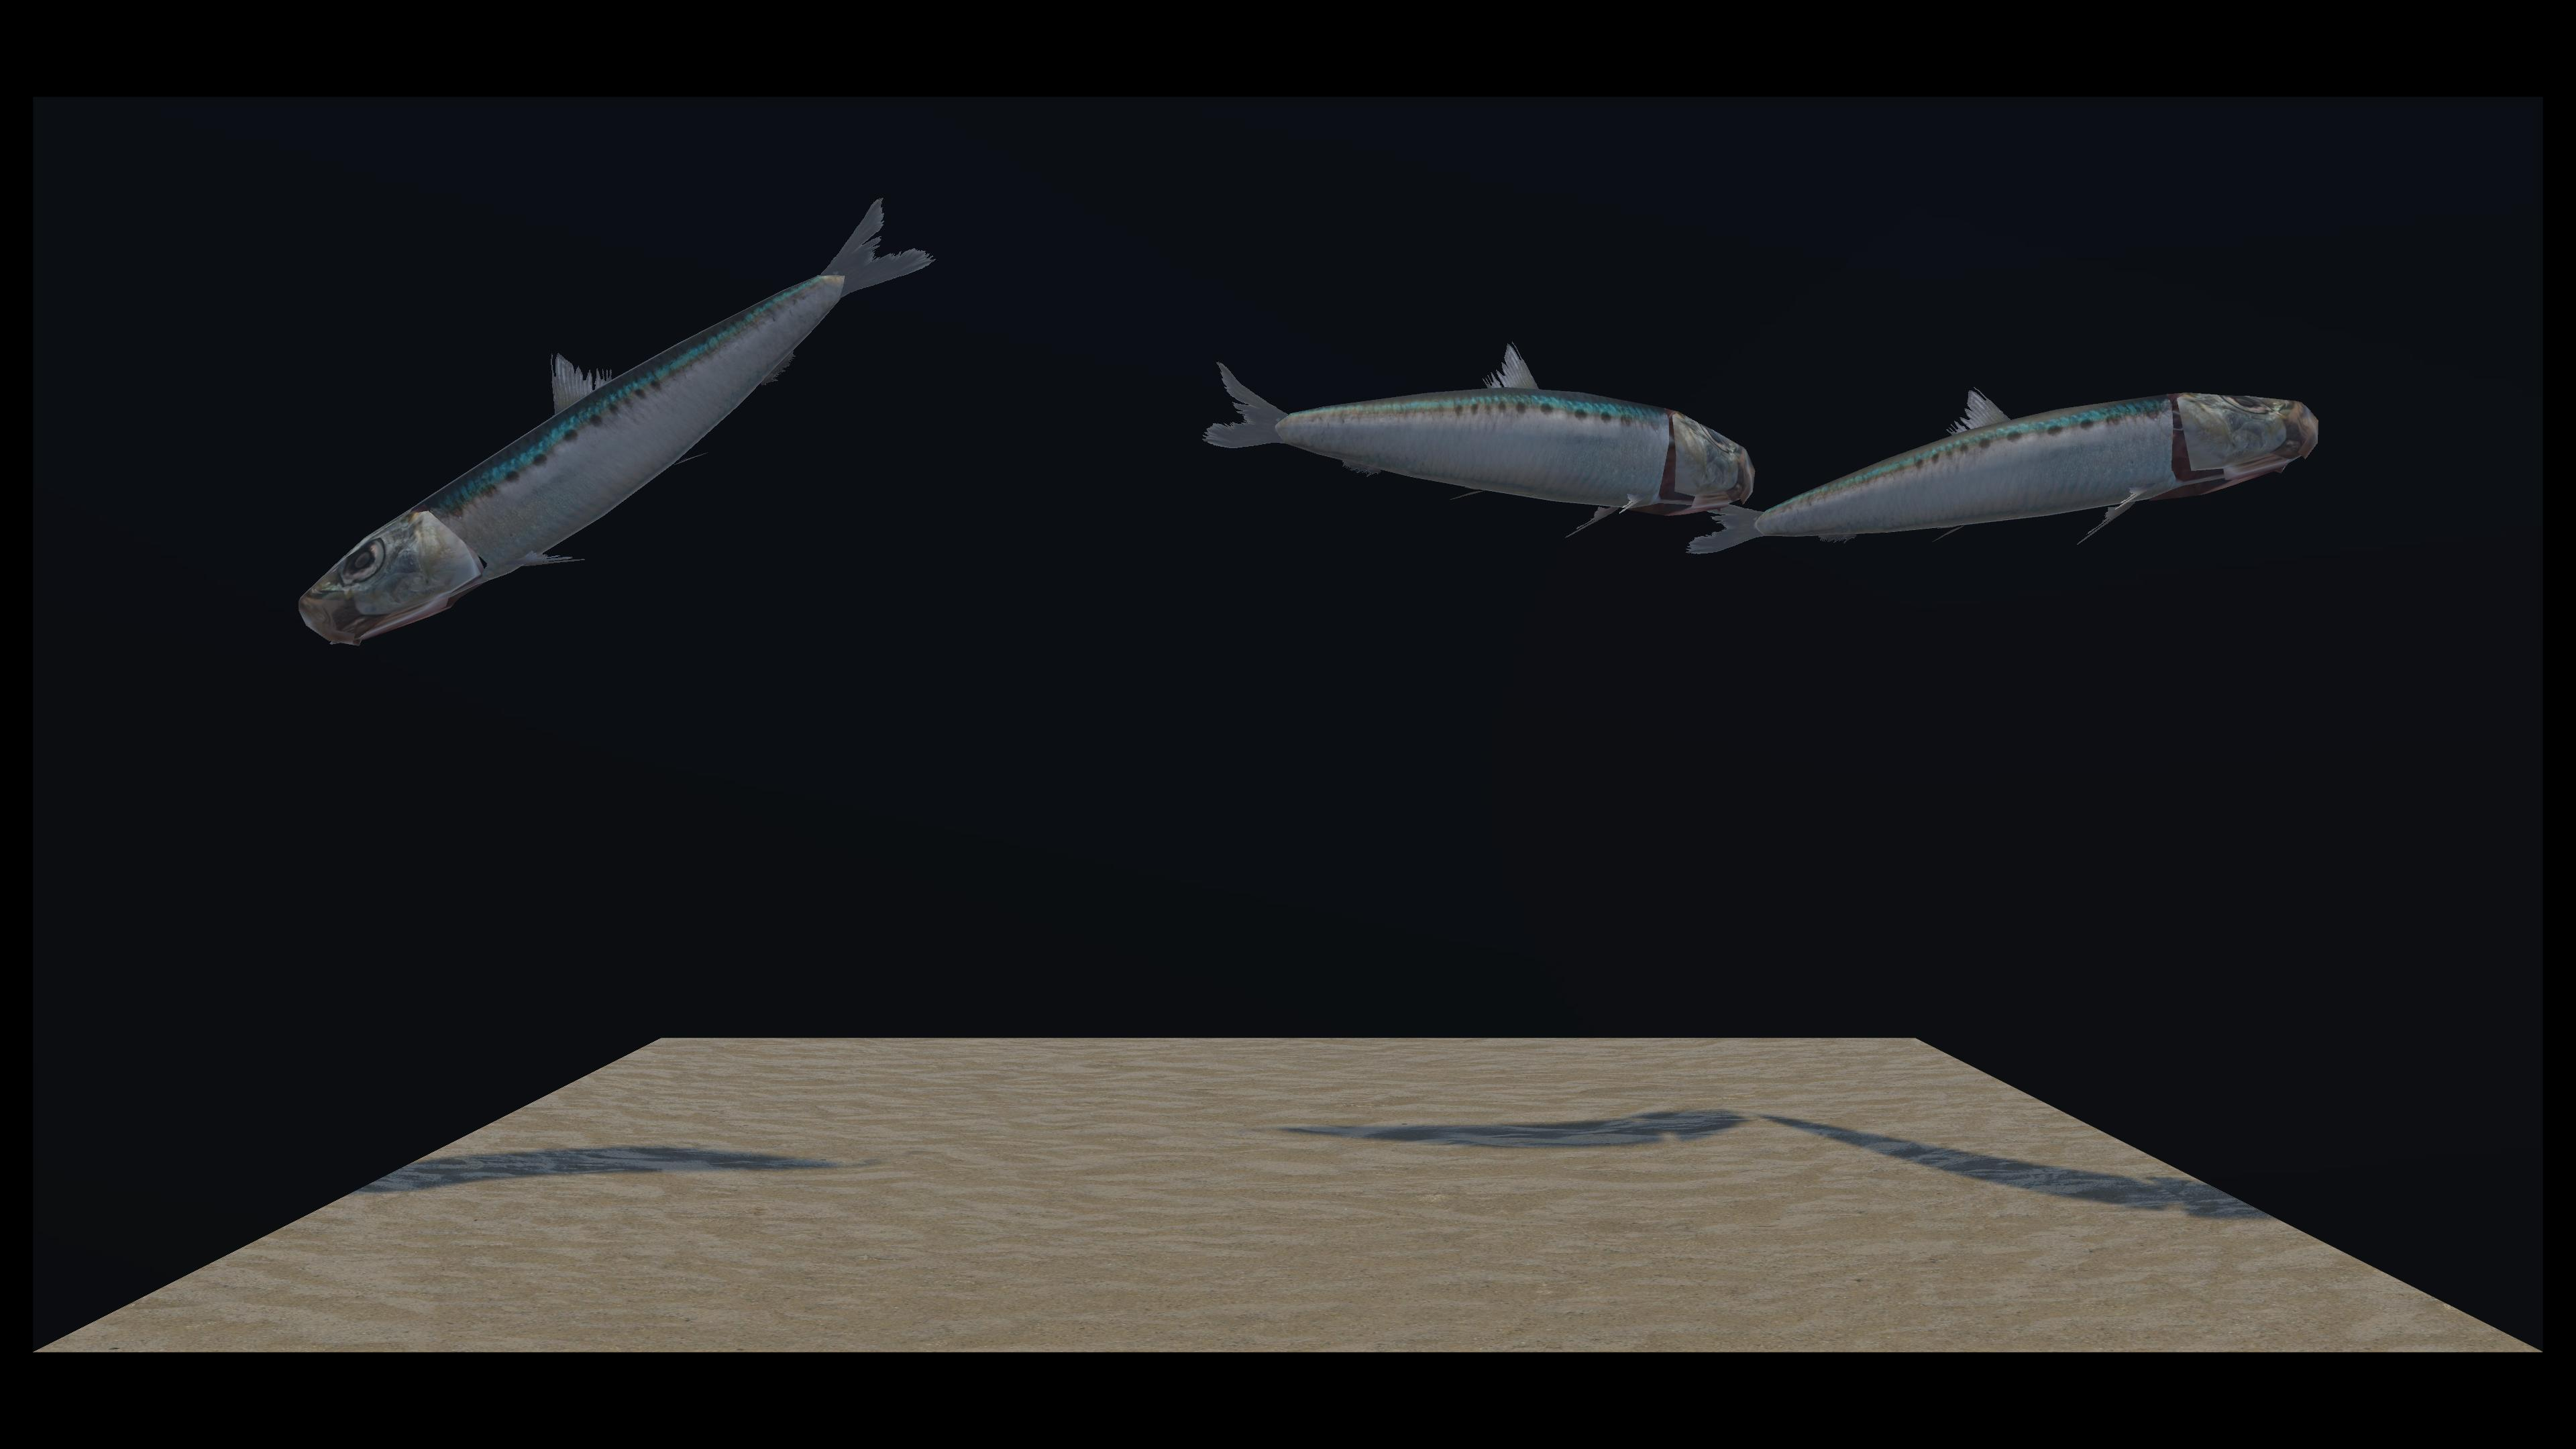Sardine_Front: (304, 198, 971, 715), (909, 389, 2288, 556), (787, 354, 1736, 541)
